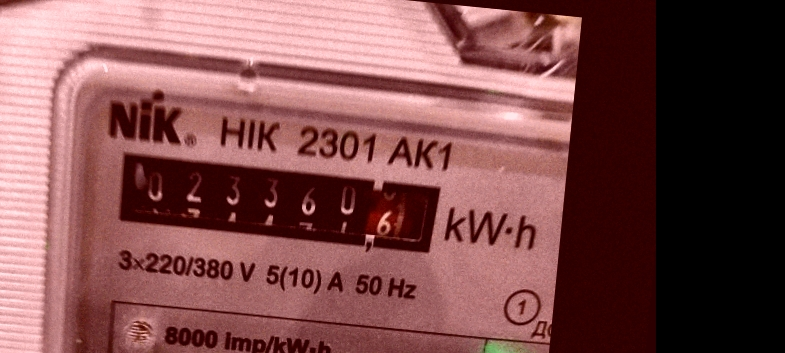0: (142, 166, 167, 203), (335, 181, 360, 218)
2: (182, 168, 206, 205)
3: (221, 172, 244, 208), (260, 174, 281, 210)
6: (296, 181, 320, 217), (373, 204, 394, 238)
screen: (101, 139, 460, 272)
